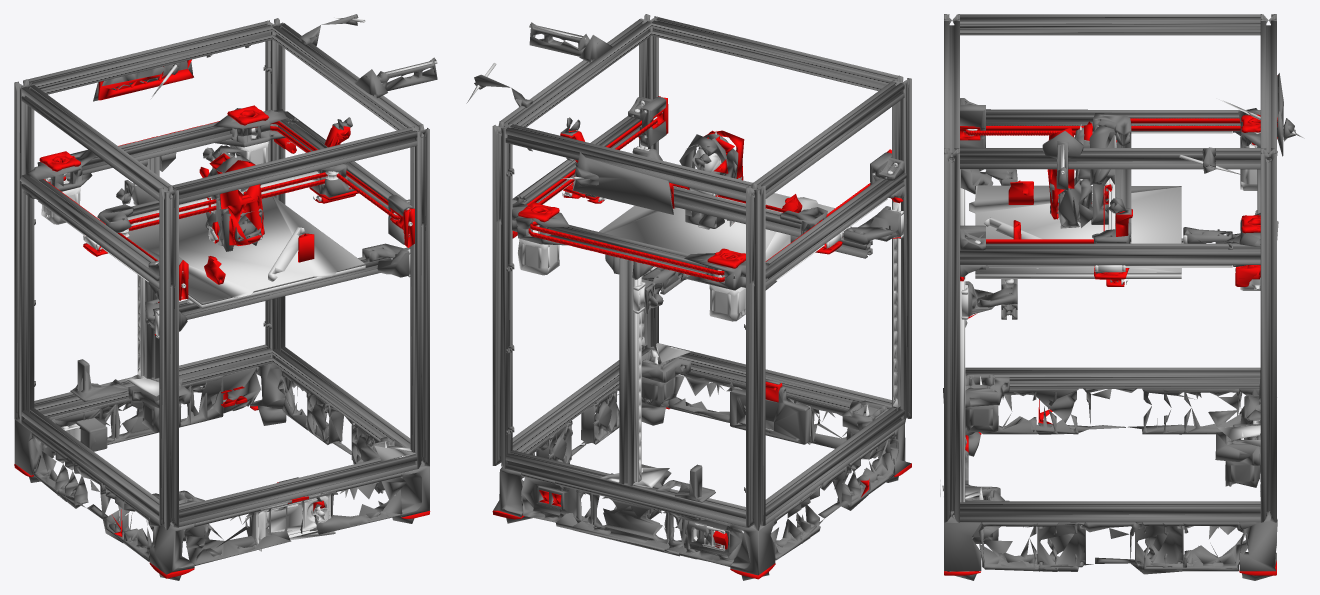
File: trident.glb
3 renders of one model, left to right at view 1: azimuth 30°, elevation 25°; view 2: azimuth 150°, elevation 25°; view 3: azimuth 270°, elevation 25°, orthographic. The views are drawn at different scales.
Parts seen in each view (by area): view 1: frame, hardware, bed, gantry, toolhead, drive_a, drive_b, belt_a, tensioner_a, belt_b, tensioner_b; view 2: frame, hardware, gantry, bed, drive_a, drive_b, toolhead, belt_a, tensioner_a, belt_b, tensioner_b; view 3: frame, hardware, gantry, bed, toolhead, belt_b, drive_a, belt_a, drive_b, tensioner_b, tensioner_a.
Boxes of the visible parts, bbox=[...] form: frame: bbox=[14, 18, 429, 530]; hardware: bbox=[14, 14, 437, 580]; bed: bbox=[127, 196, 391, 328]; gantry: bbox=[20, 111, 406, 288]; toolhead: bbox=[199, 145, 264, 251]; drive_a: bbox=[213, 105, 296, 164]; drive_b: bbox=[23, 150, 96, 224]; belt_a: bbox=[43, 121, 400, 224]; tensioner_a: bbox=[388, 195, 414, 247]; belt_b: bbox=[49, 126, 325, 261]; tensioner_b: bbox=[148, 257, 188, 300]; frame: bbox=[492, 14, 911, 530]; hardware: bbox=[466, 22, 911, 580]; gantry: bbox=[512, 116, 906, 286]; bed: bbox=[599, 193, 872, 294]; drive_a: bbox=[512, 202, 569, 275]; drive_b: bbox=[684, 248, 776, 321]; toolhead: bbox=[679, 130, 744, 229]; belt_a: bbox=[526, 116, 822, 275]; tensioner_a: bbox=[628, 96, 668, 147]; belt_b: bbox=[528, 176, 870, 282]; tensioner_b: bbox=[870, 149, 904, 198]; frame: bbox=[944, 14, 1276, 522]; hardware: bbox=[940, 73, 1304, 580]; gantry: bbox=[960, 109, 1270, 286]; bed: bbox=[969, 185, 1183, 319]; toolhead: bbox=[1047, 121, 1116, 228]; belt_b: bbox=[965, 125, 1255, 145]; drive_a: bbox=[1233, 213, 1278, 290]; belt_a: bbox=[986, 118, 1240, 243]; drive_b: bbox=[1233, 108, 1277, 190]; tensioner_b: bbox=[960, 98, 985, 147]; tensioner_a: bbox=[960, 225, 988, 276].
Bounding box in the file's own units: 0.5074 × 0.6123 × 0.4495.
